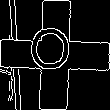O_S: (32, 29, 78, 81)
